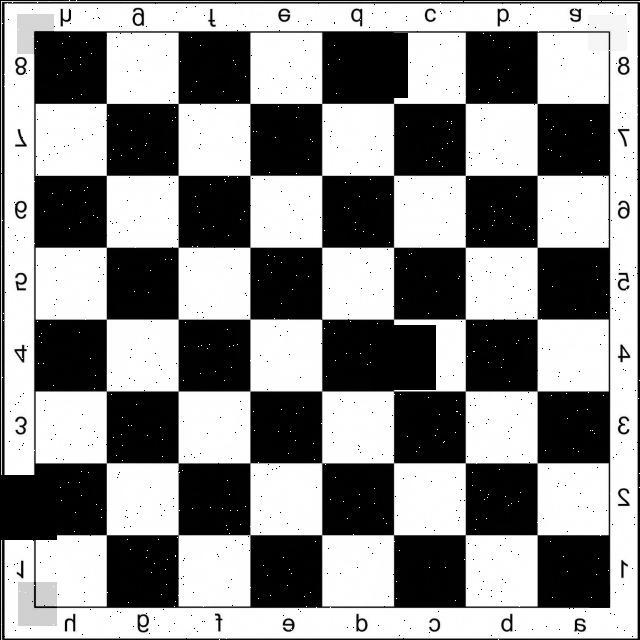chess-table-corners: (17, 581, 56, 625), (588, 584, 626, 623), (16, 13, 53, 53), (587, 14, 626, 50)
